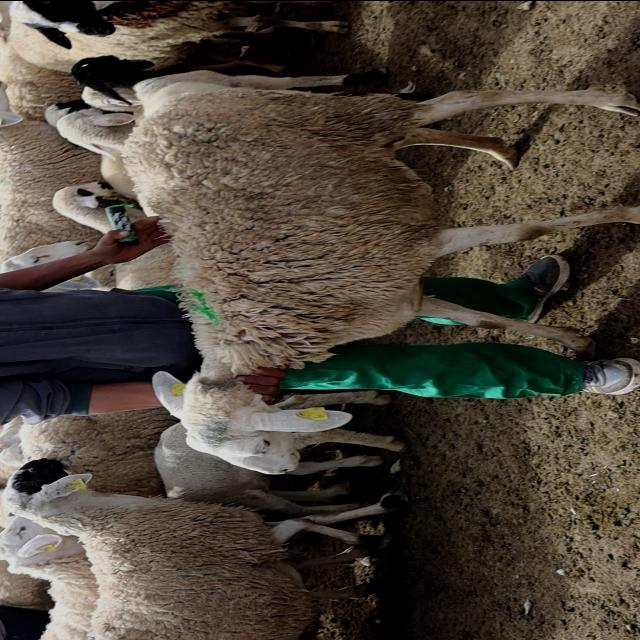Score_2: (123, 70, 639, 473)
